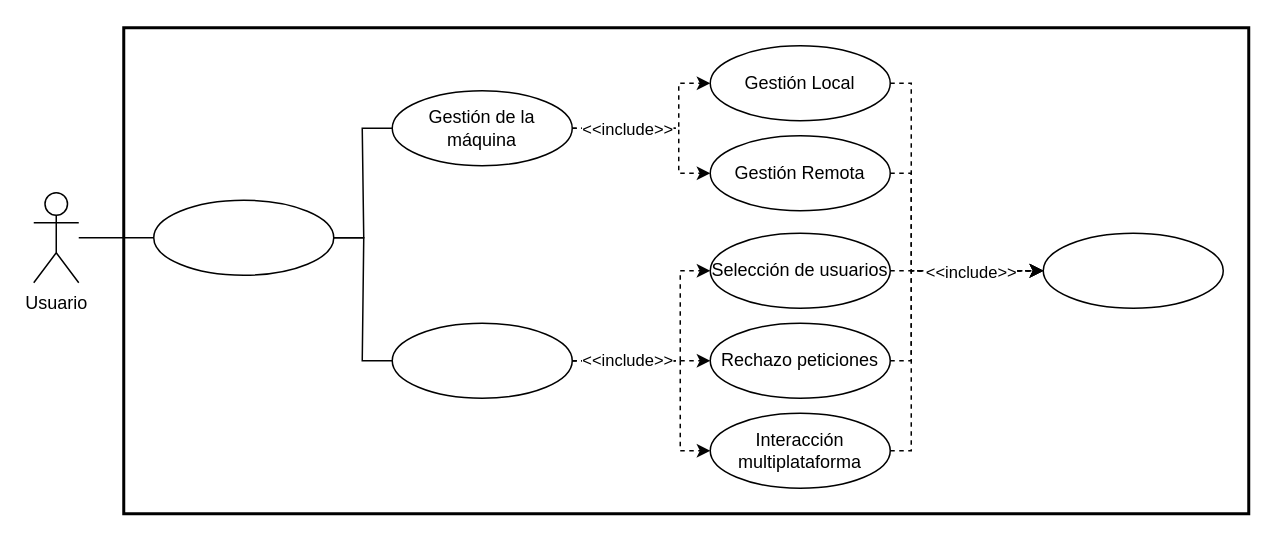
Image size: 1277x540. Some labels were removed from this diagram. Here are the shapes that lost their labels. From the top down, the centre of each, then its label:
the point at 243,237: Mensaje con órden
the point at 1132,270: Verificar usuario
the point at 481,360: Comunicación FrontEnd-BackEnd
